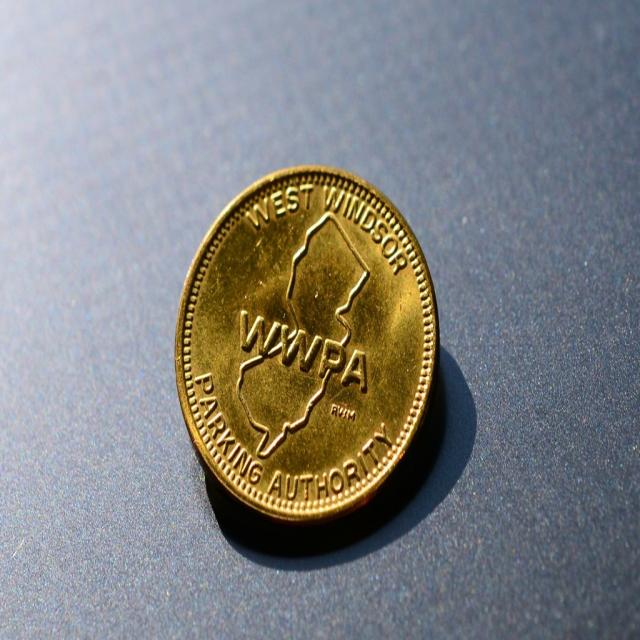Coin: (175, 166, 439, 522)
